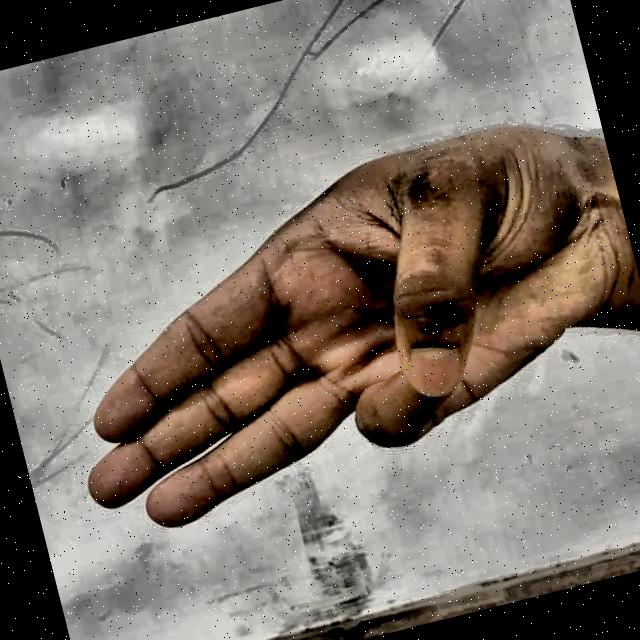Ma: (10, 81, 640, 573)
